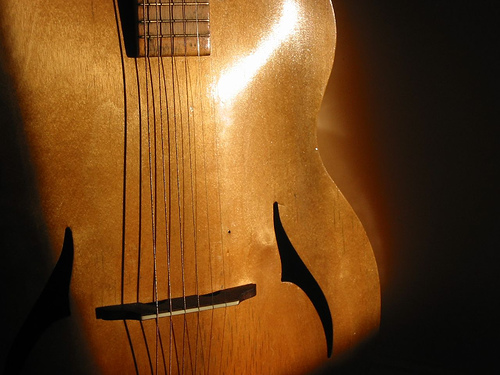guitar: (1, 1, 384, 375)
